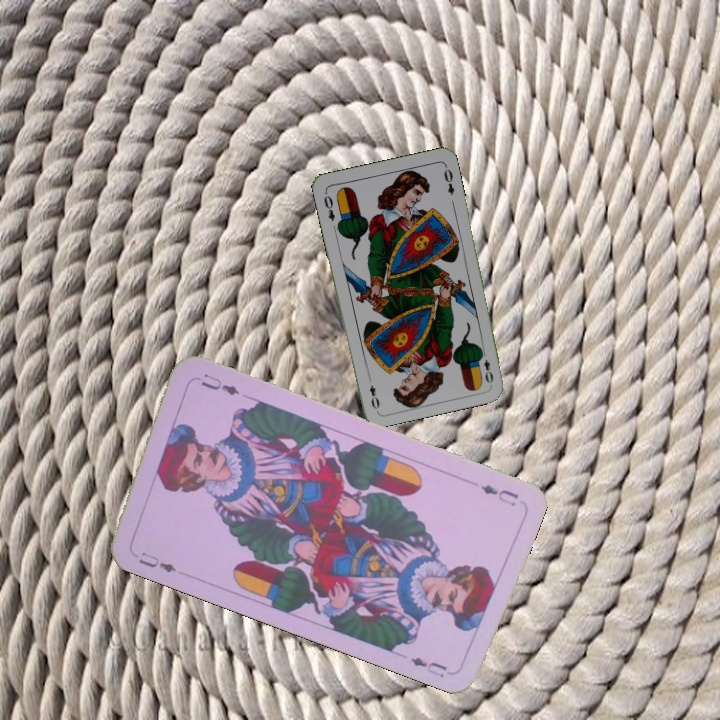EO: (477, 346, 496, 386), (320, 188, 337, 224)
EU: (477, 480, 521, 510), (135, 547, 179, 575)
